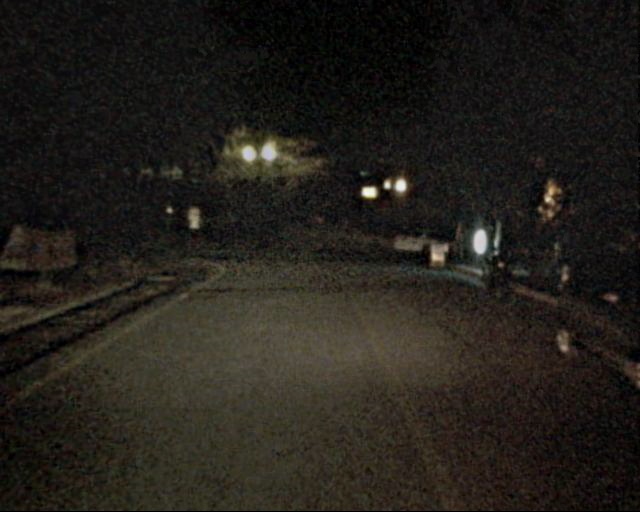person: (552, 224, 575, 281)
